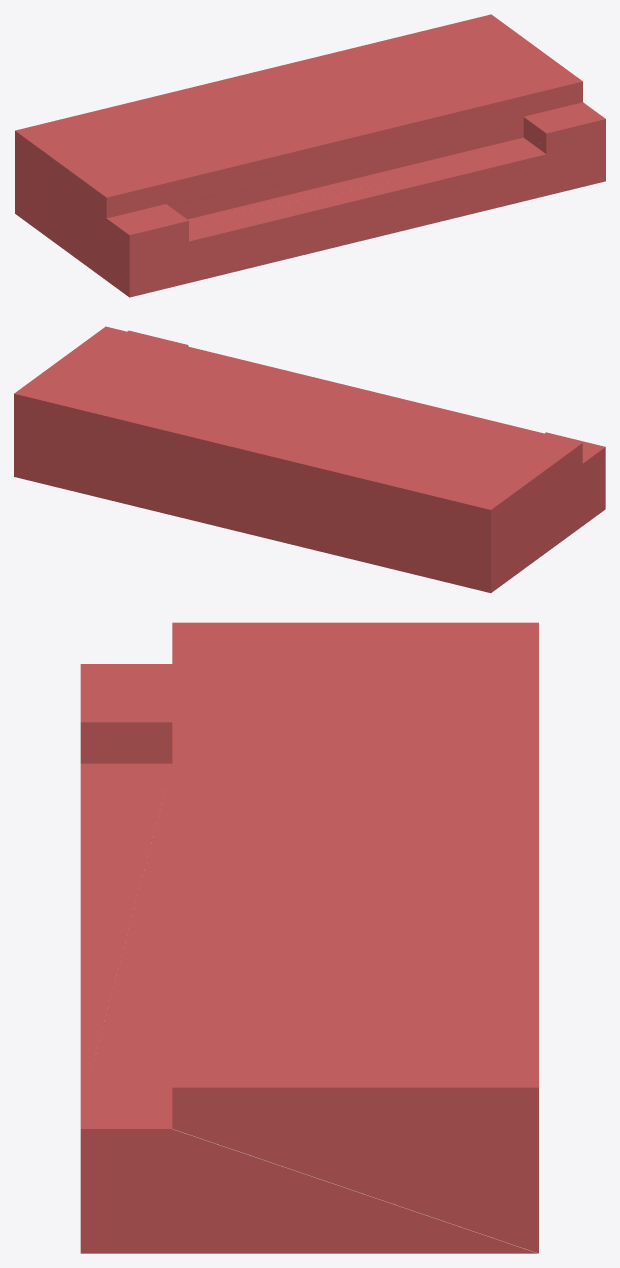
The model's file is iwante.glb.
3 renders of one model, top to bottom at view 1: azimuth 30°, elevation 25°; view 2: azimuth 150°, elevation 25°; view 3: azimuth 270°, elevation 25°, orthographic. The views are drawn at different scales.
Visible parts, largest first — view 1: iwante_col; view 2: iwante_col; view 3: iwante_col.
Boxes of the visible parts, left/top/right/bottom form: iwante_col: left=15, top=14, right=605, bottom=297; iwante_col: left=14, top=326, right=605, bottom=592; iwante_col: left=80, top=622, right=538, bottom=1253.
Bounding box in the file's own units: 8.3 × 1.38 × 3.45.
